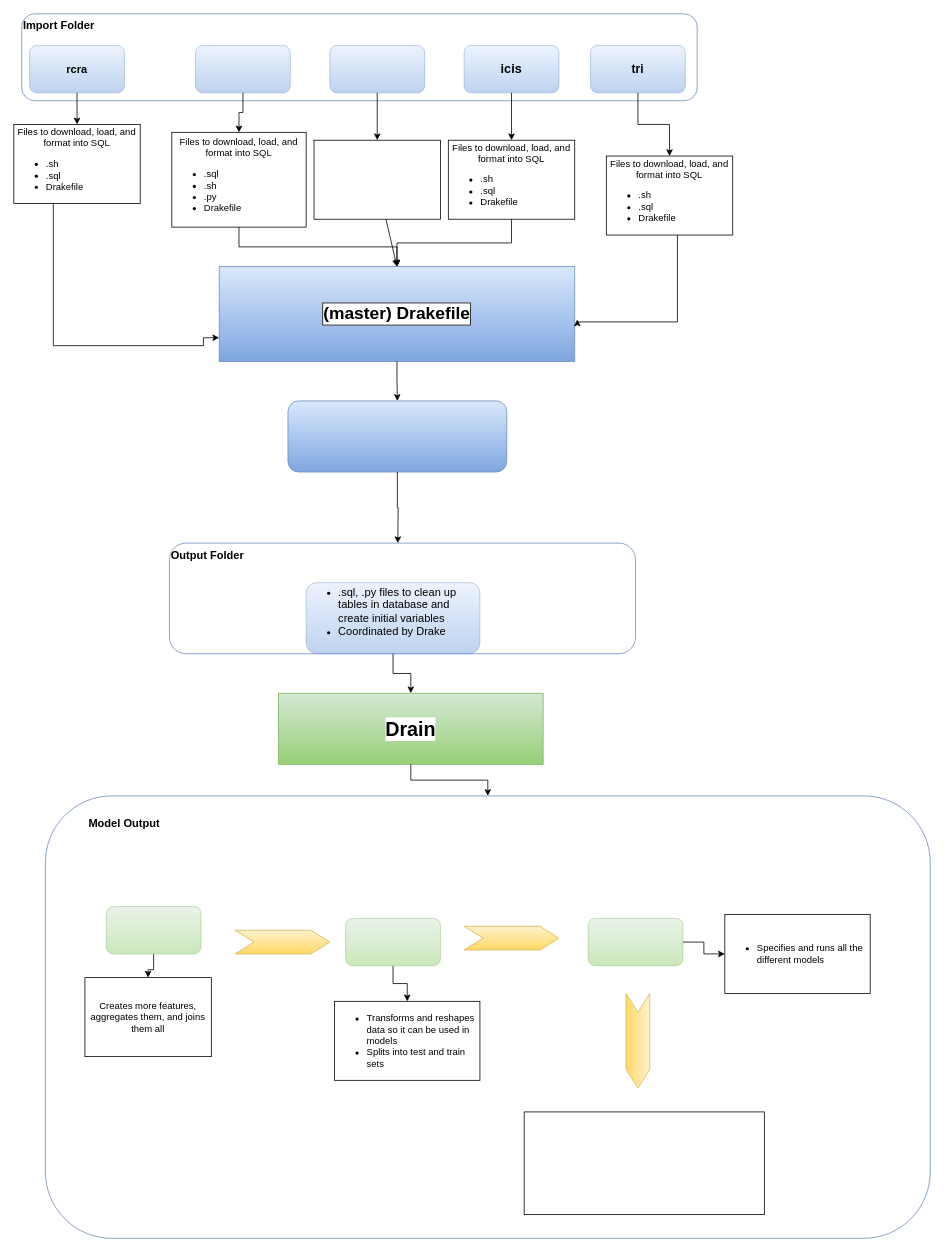
Image size: 944x1252. Some labels were removed from this diagram. Each missing label, with the centre of its shape:
data.py: point 153,930
Files to download, load, and format into SQL .sh Drakefile: point 376,179
From here, we can call the model output and interpret precision curves: point 643,1163
manifest: point 242,69
nysdec_reports: point 377,69
PostgreSQL Database: point 397,436
transform.py: point 392,942
workflow.py: point 635,942
